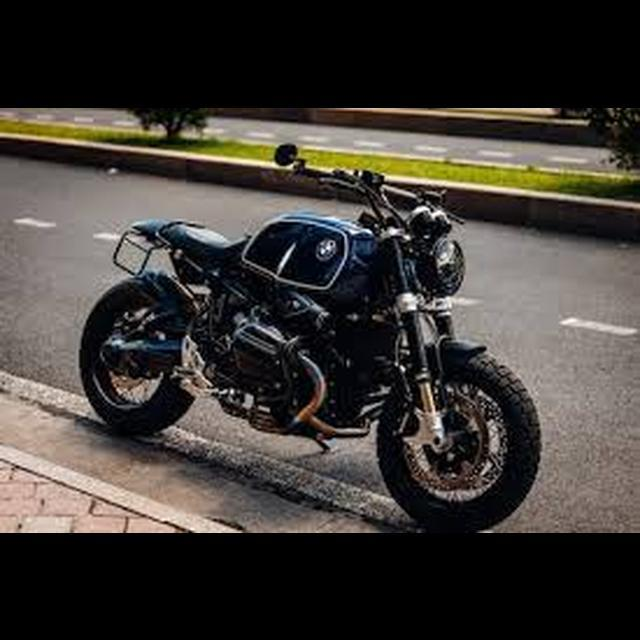motorcycle: (75, 141, 545, 531)
